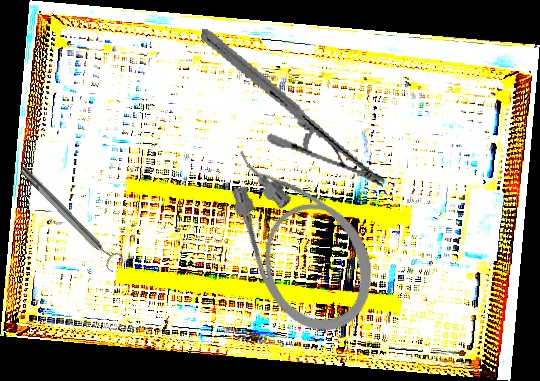Cannula: (208, 120, 392, 350)
Fixation Ring: (15, 160, 126, 275)
Needle Holder: (179, 28, 406, 188)
